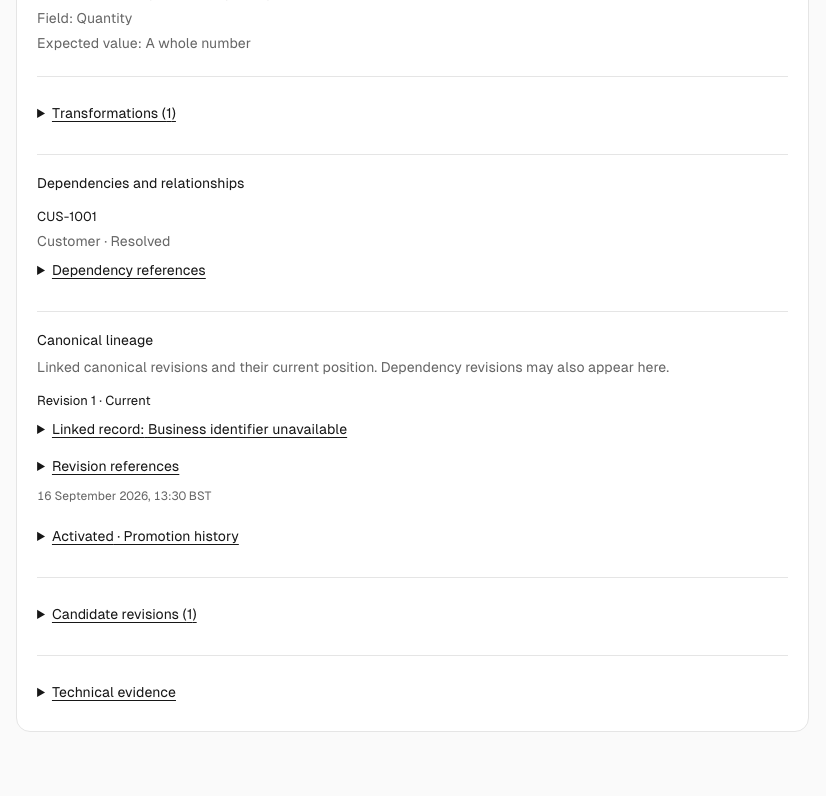
Scenario: normalisation evidence explains the expected domain and keeps the issue code in technical detail
(page scrolled)
Expected: the text "Expected value: A whole number" is shown, [37, 35, 251, 51]
Click the heading "Technical evidence".
click(114, 692)  # box [52, 684, 176, 700]
(page scrolled)
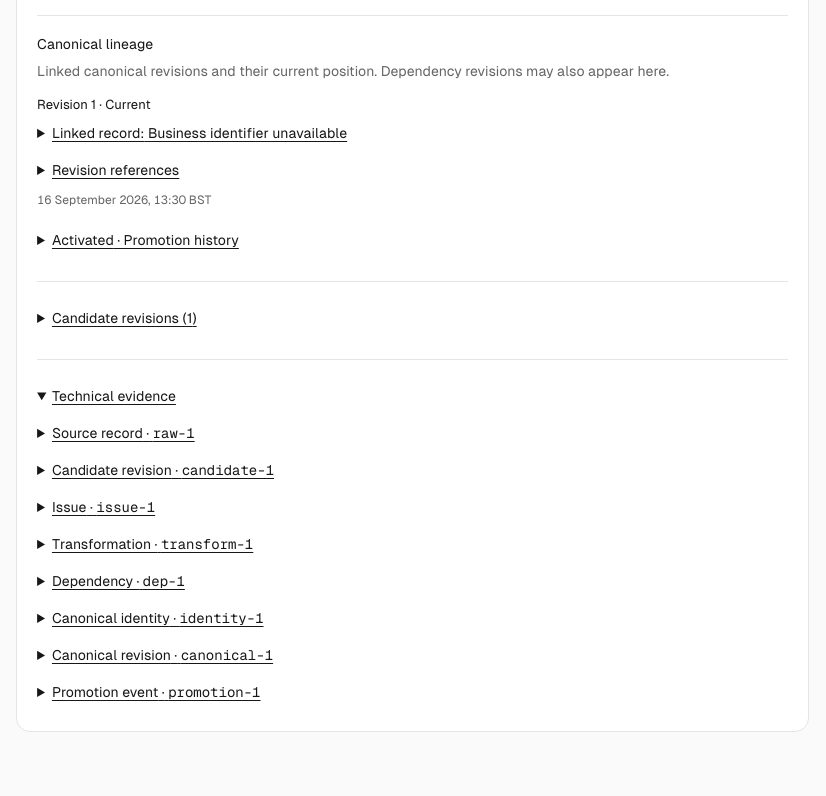
Click the heading "Issue · issue-1".
click(104, 507)  # box [52, 498, 155, 516]
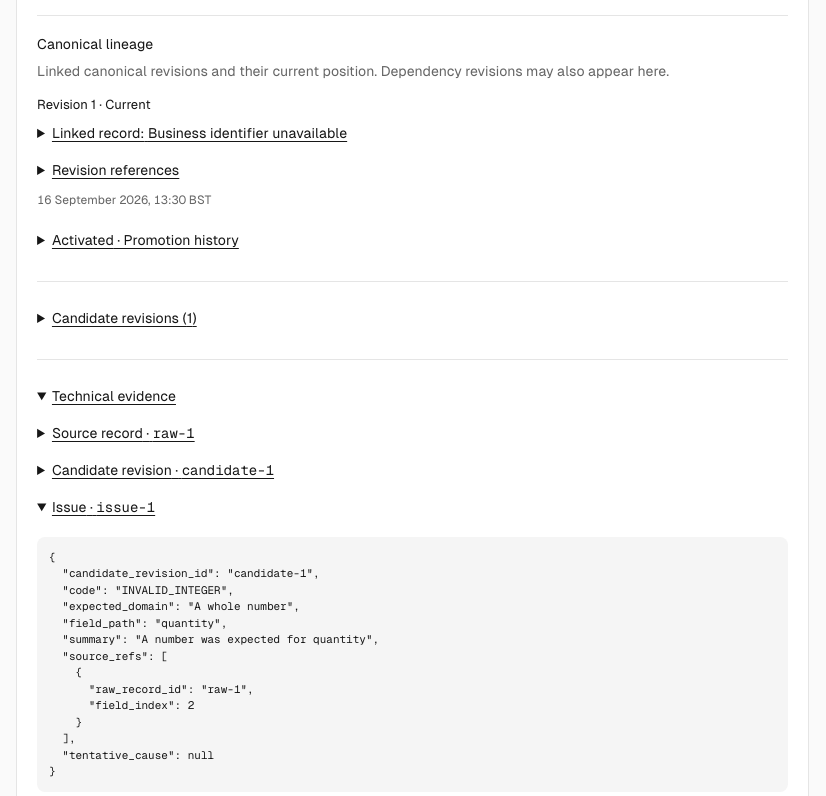
Result: the text "\"INVALID_INTEGER\"" is shown at [49, 550, 379, 778]
